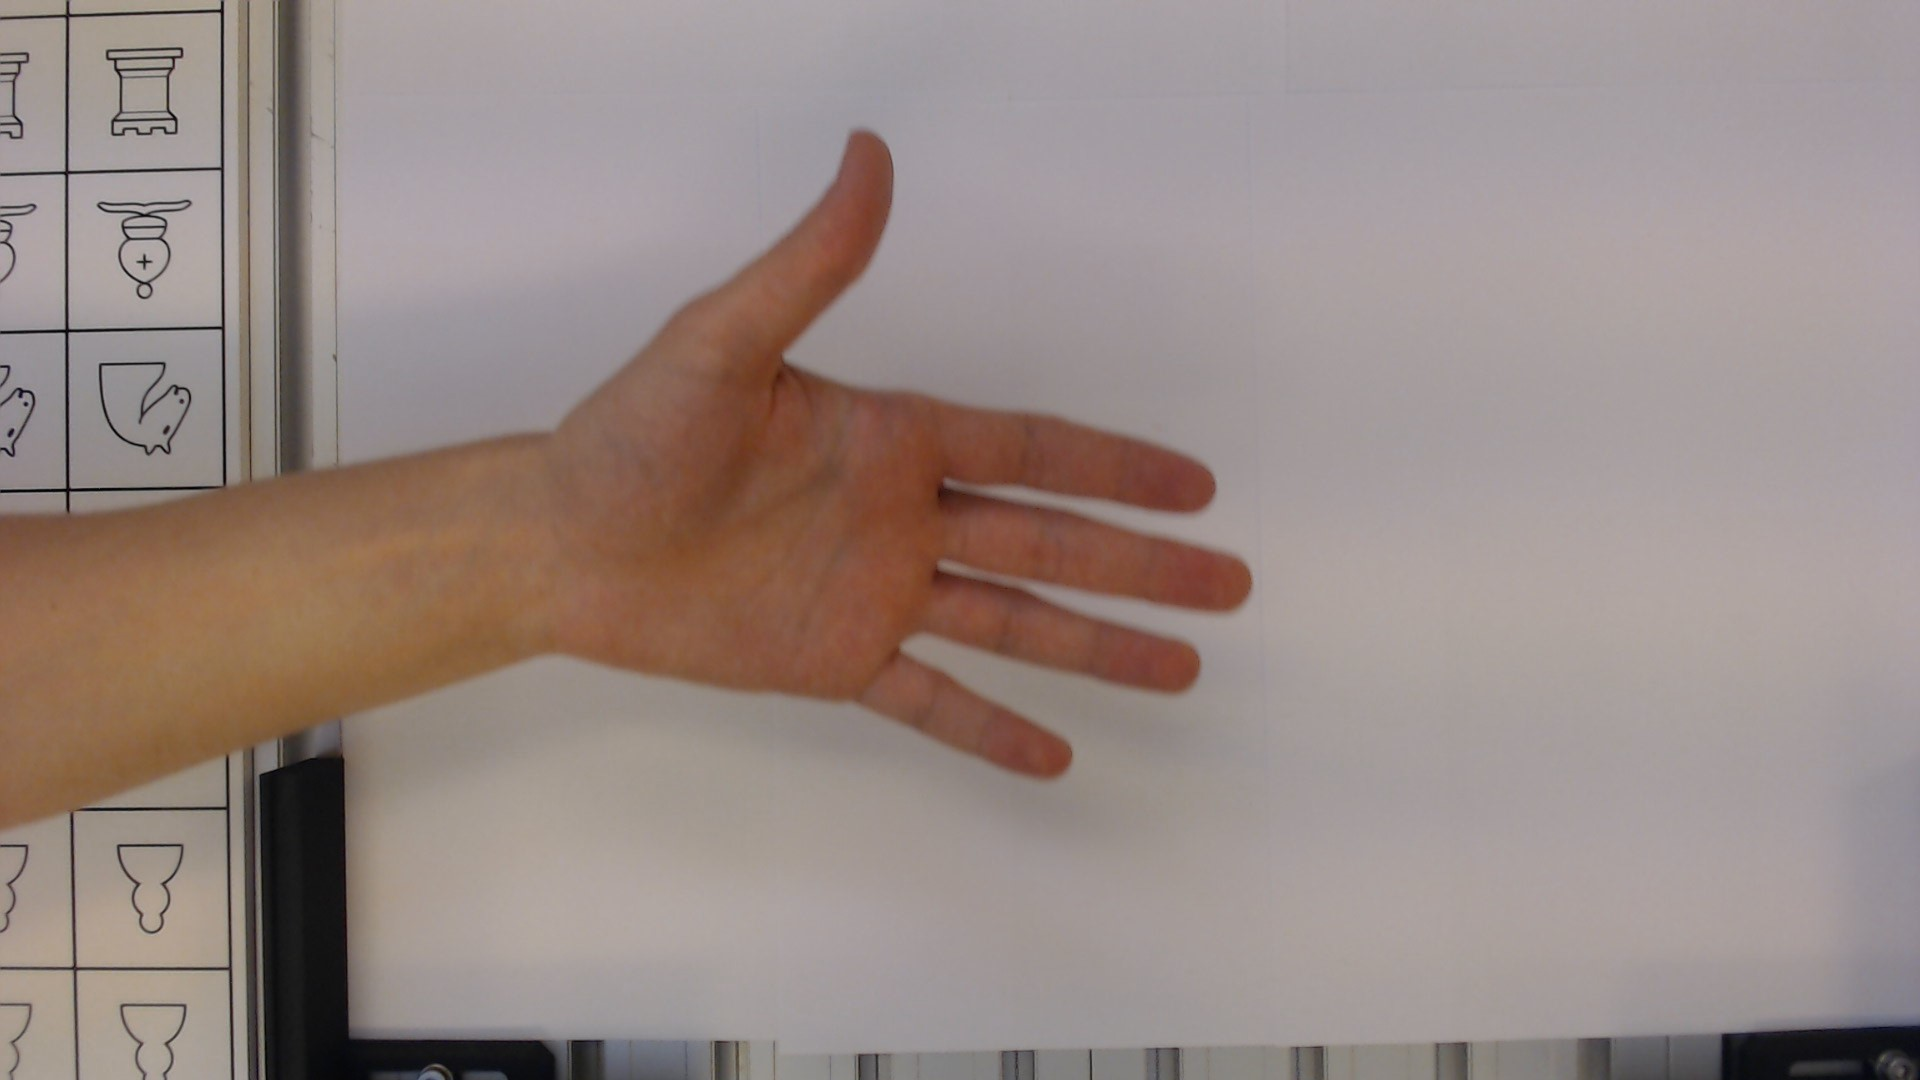Palm: (541, 293, 973, 758)
